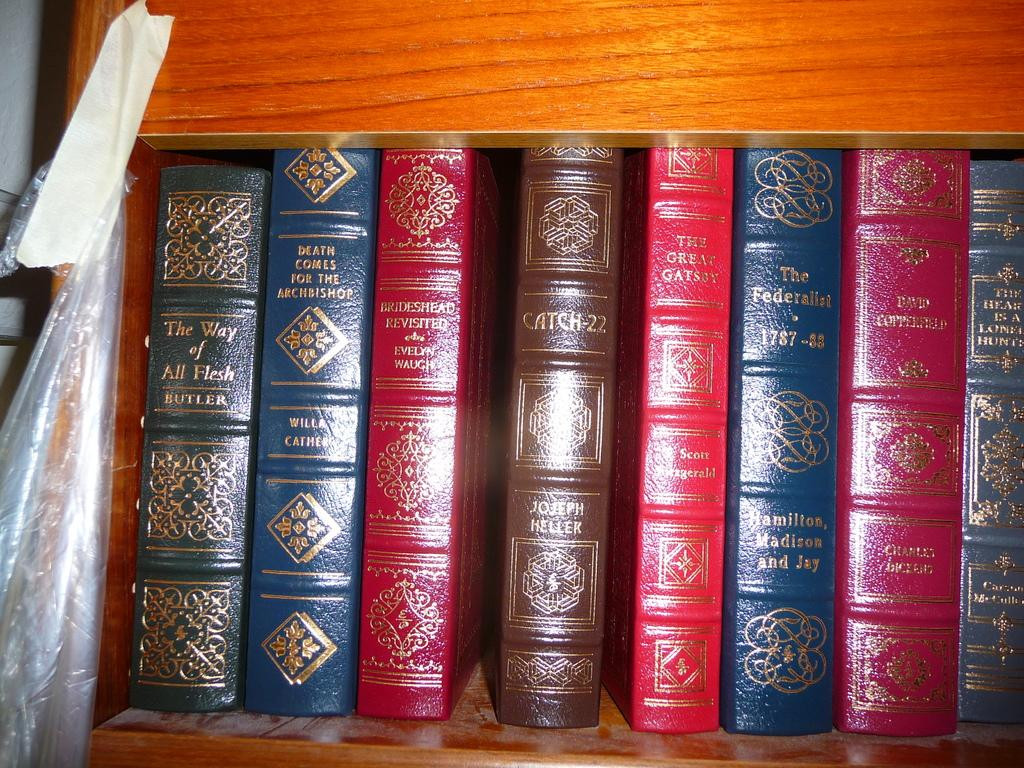Book: (356, 147, 499, 721), (832, 147, 969, 737), (489, 144, 624, 728), (128, 163, 270, 712), (601, 146, 733, 734), (243, 146, 378, 717), (720, 147, 842, 736), (957, 157, 1023, 724)
